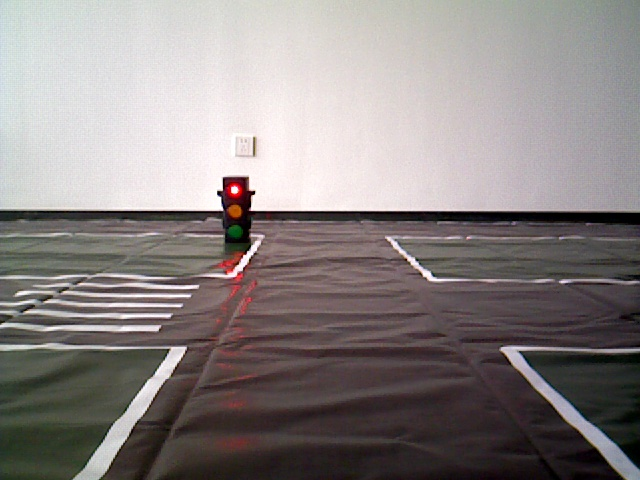red: (220, 177, 246, 245)
